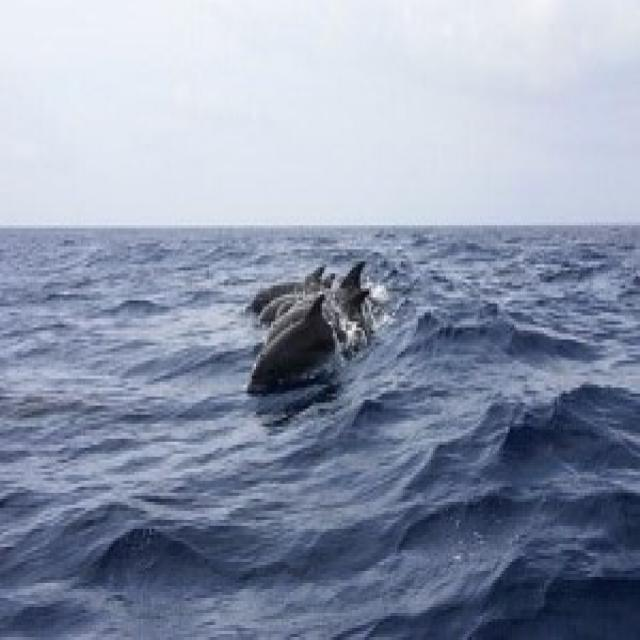Dolphin: (240, 311, 348, 413), (247, 260, 321, 319)
